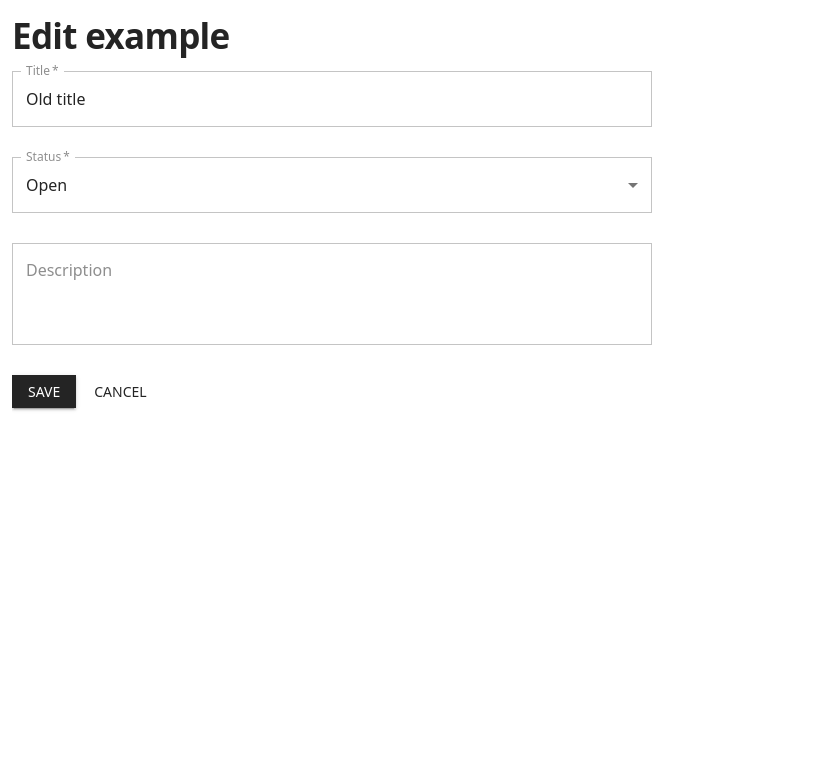
Test: ExampleFormPage › edits an existing example, sending the version it was based on
The image size is (819, 773).
Replace the text in the field labelled "Title *" with "New title" at (332, 99), box [12,71,652,127]
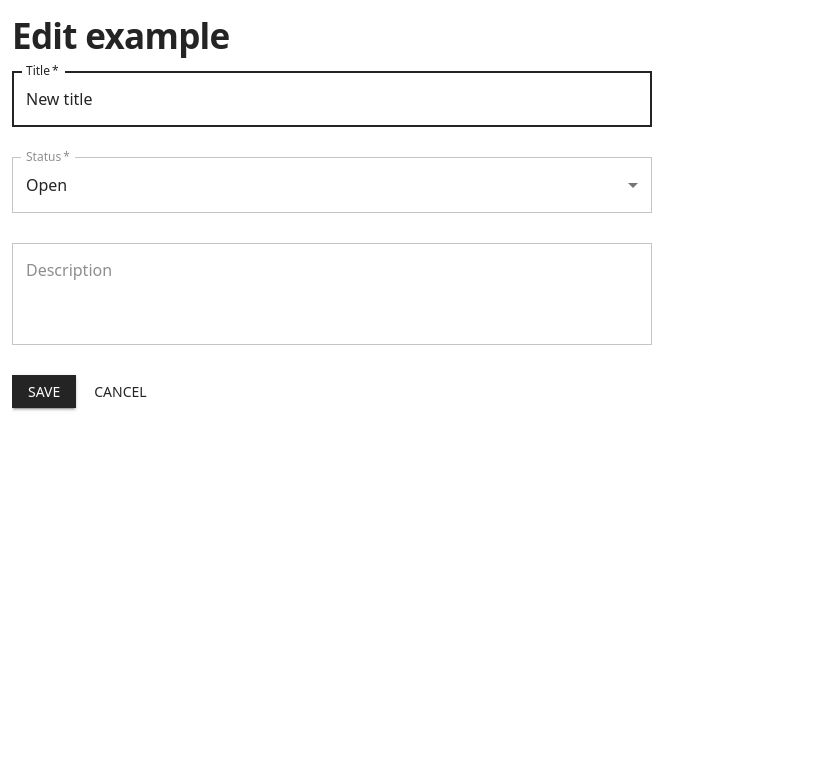
Click the button "Save" at (44, 392), box [12,375,76,408]
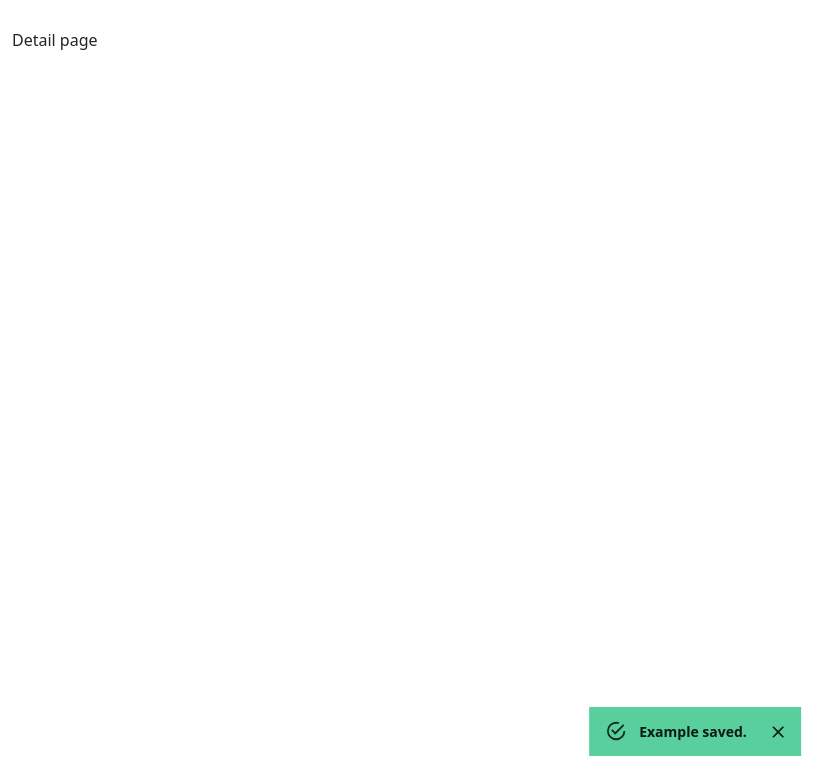
Expected: the text "Detail page" is shown, [12,29,98,51]
